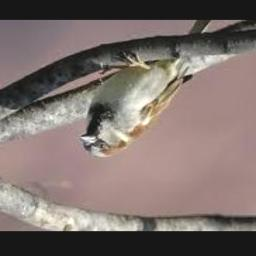Sparrow: (80, 20, 212, 158)
